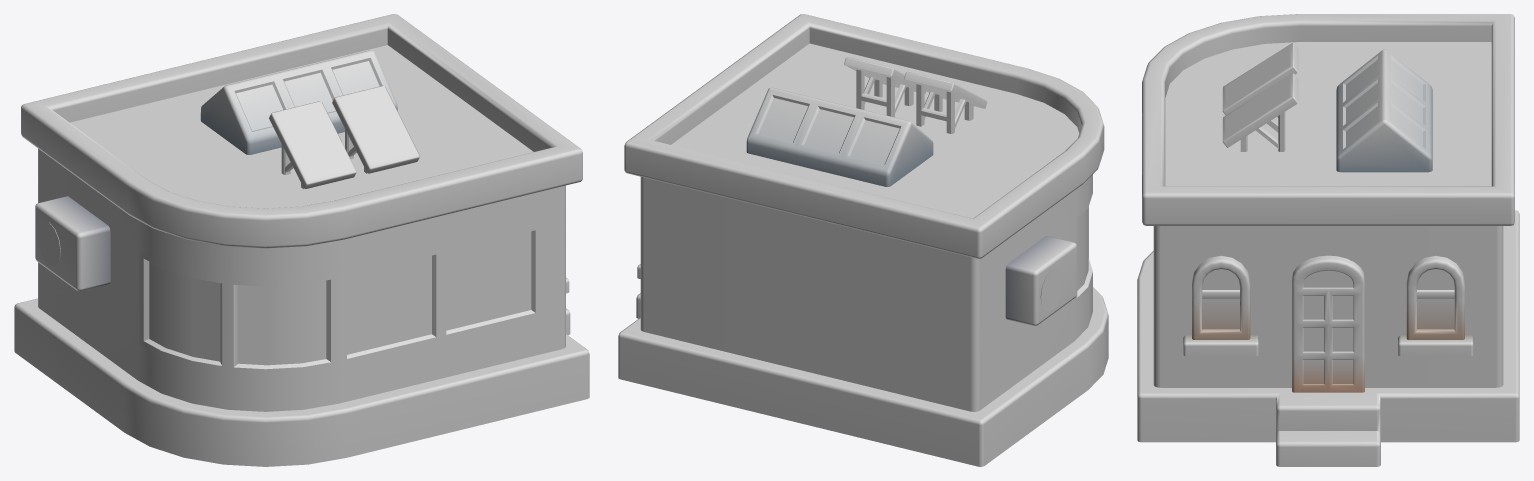
The model's file is NF_Bld_Shop 02.fbx.
The picture shows the model from 3 angles, left to right: view 1: azimuth 30°, elevation 25°; view 2: azimuth 150°, elevation 25°; view 3: azimuth 270°, elevation 25°; orthographic projection. The views are drawn at different scales.
Parts seen in each view (by area): view 1: Shop_2; view 2: Shop_2; view 3: Shop_2.
Part boxes in pixels (x1,y1,x2,y2): Shop_2: (14, 14, 589, 466); Shop_2: (618, 14, 1108, 466); Shop_2: (1137, 14, 1519, 466).
Size of the model in its own units: 8.93 by 5.36 by 6.56.
